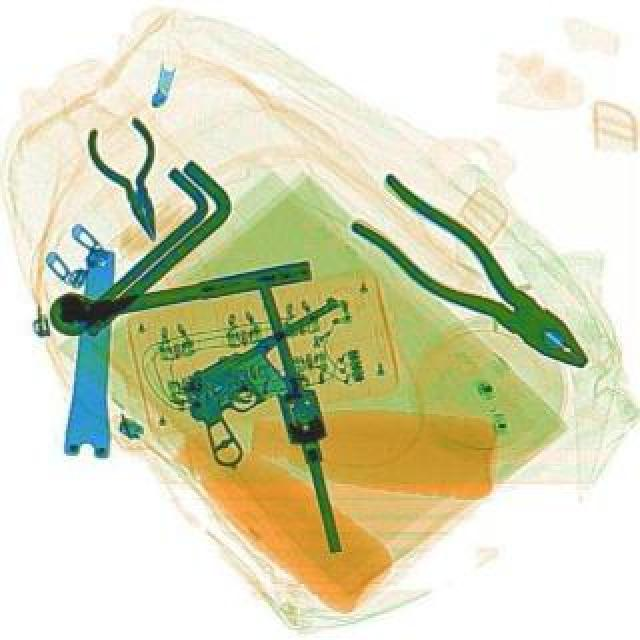gun: (166, 292, 392, 472)
wrench: (334, 168, 610, 392), (78, 112, 186, 248)
